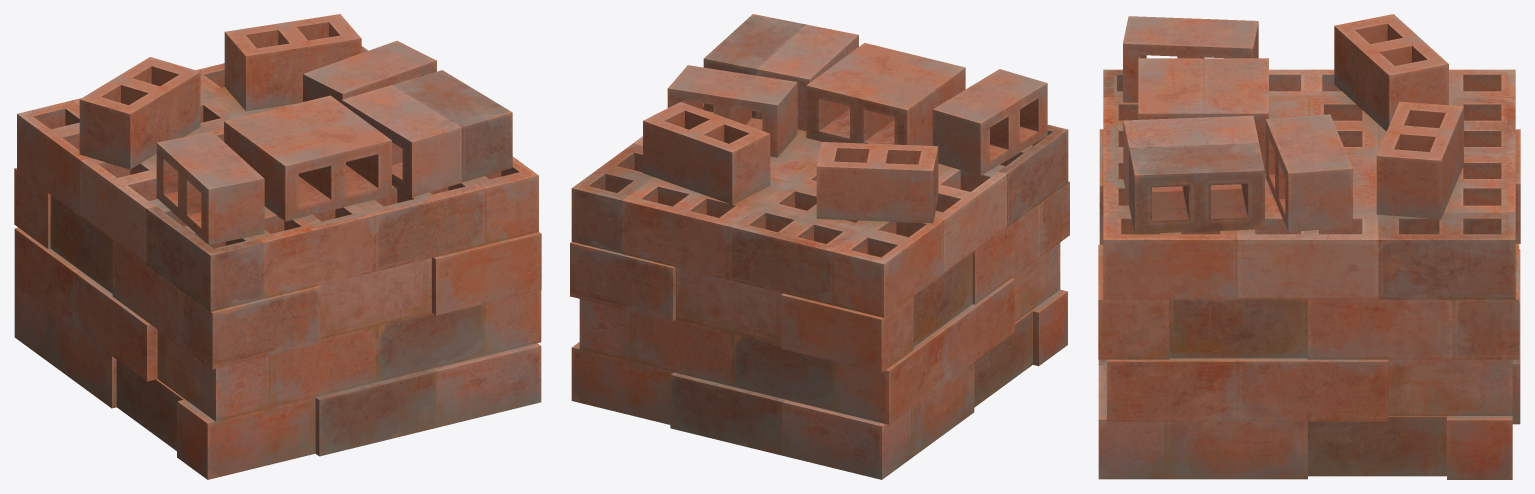
The model's file is P_Construction_003_S1_M01.obj.
3 renders of one model, left to right at view 1: azimuth 30°, elevation 25°; view 2: azimuth 150°, elevation 25°; view 3: azimuth 270°, elevation 25°, orthographic. The views are drawn at different scales.
Bounding box in the file's own units: 1.05 × 0.8368 × 1.08.
Materials: 1 (1 with a texture image).
